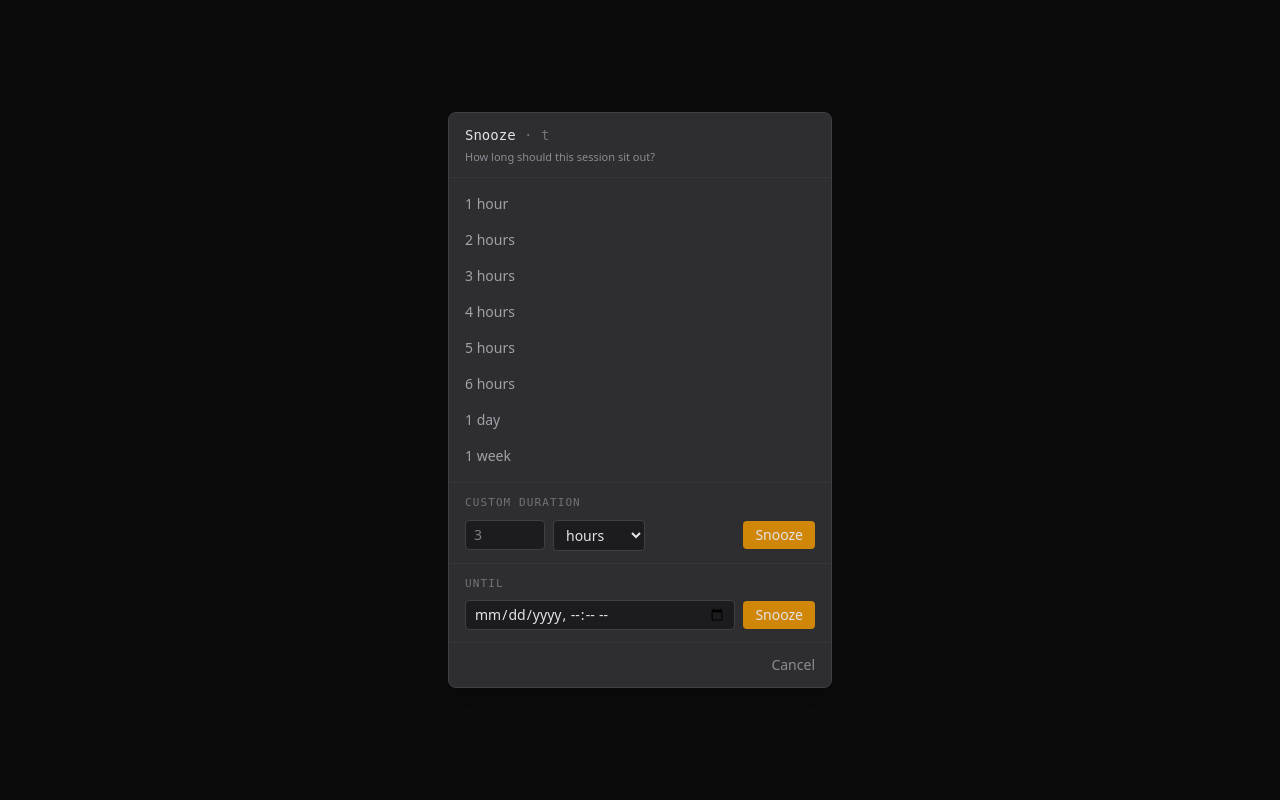
Test case: SnoozeModal › custom 0 null picks null
In the number field with test id "snooze-modal-custom-value": (505, 535) x1=465 y1=520 x2=545 y2=550, type "0"
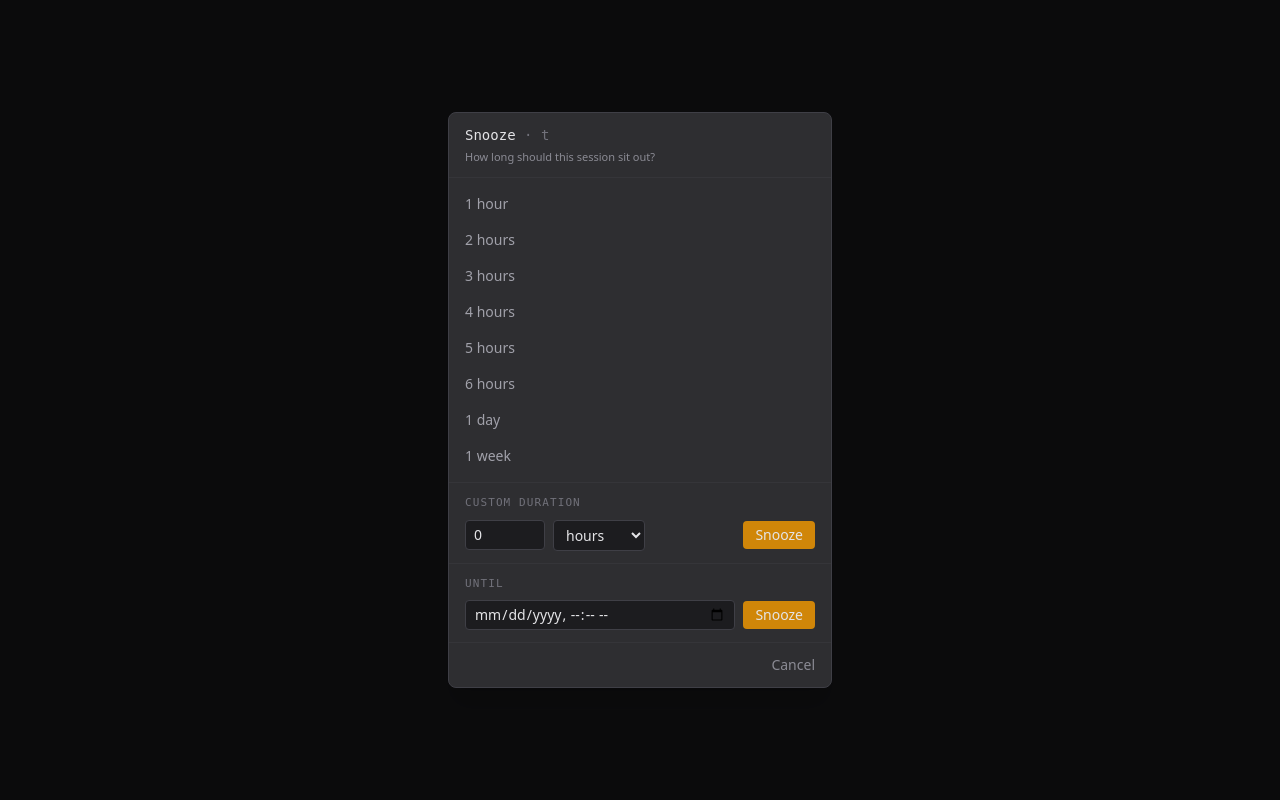
Click the button with test id "snooze-modal-custom-submit": (779, 535) x1=743 y1=521 x2=815 y2=549
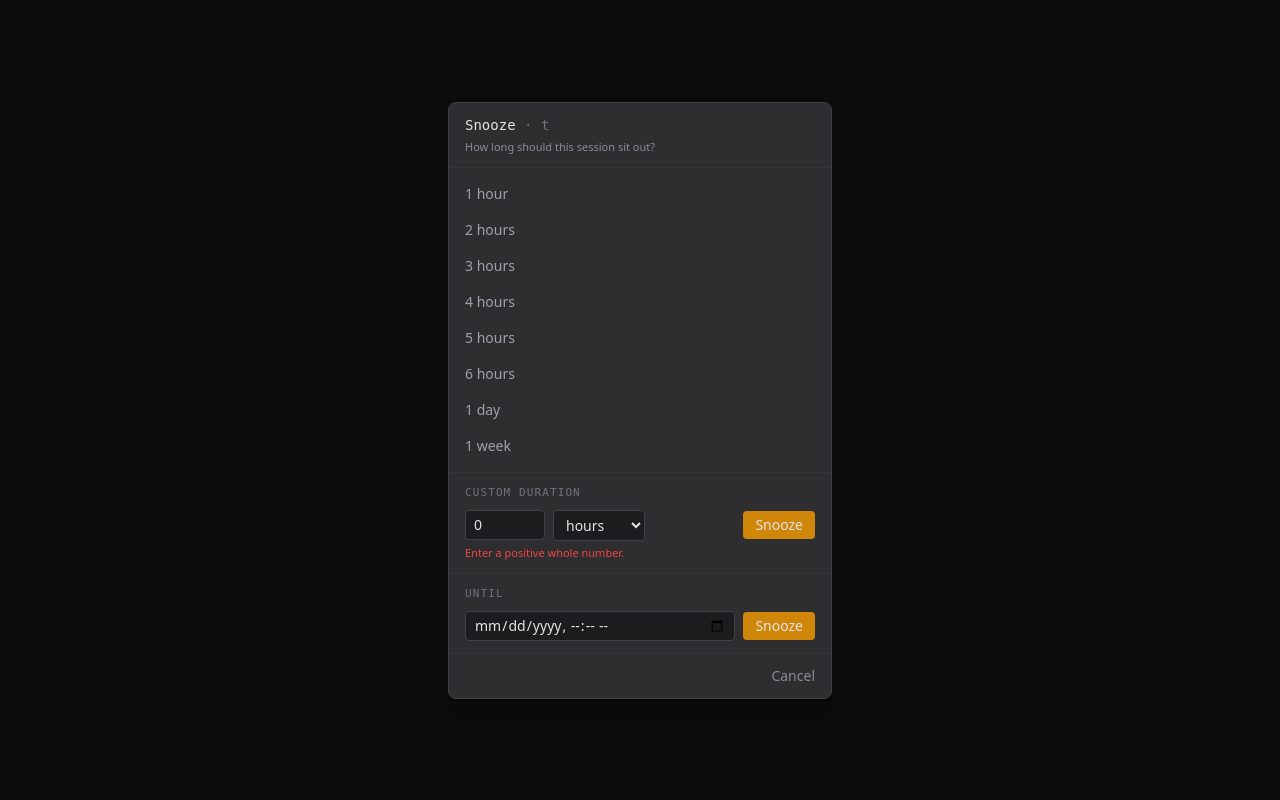
Result: the message "Enter a positive whole number." is shown at x1=465 y1=544 x2=624 y2=560
